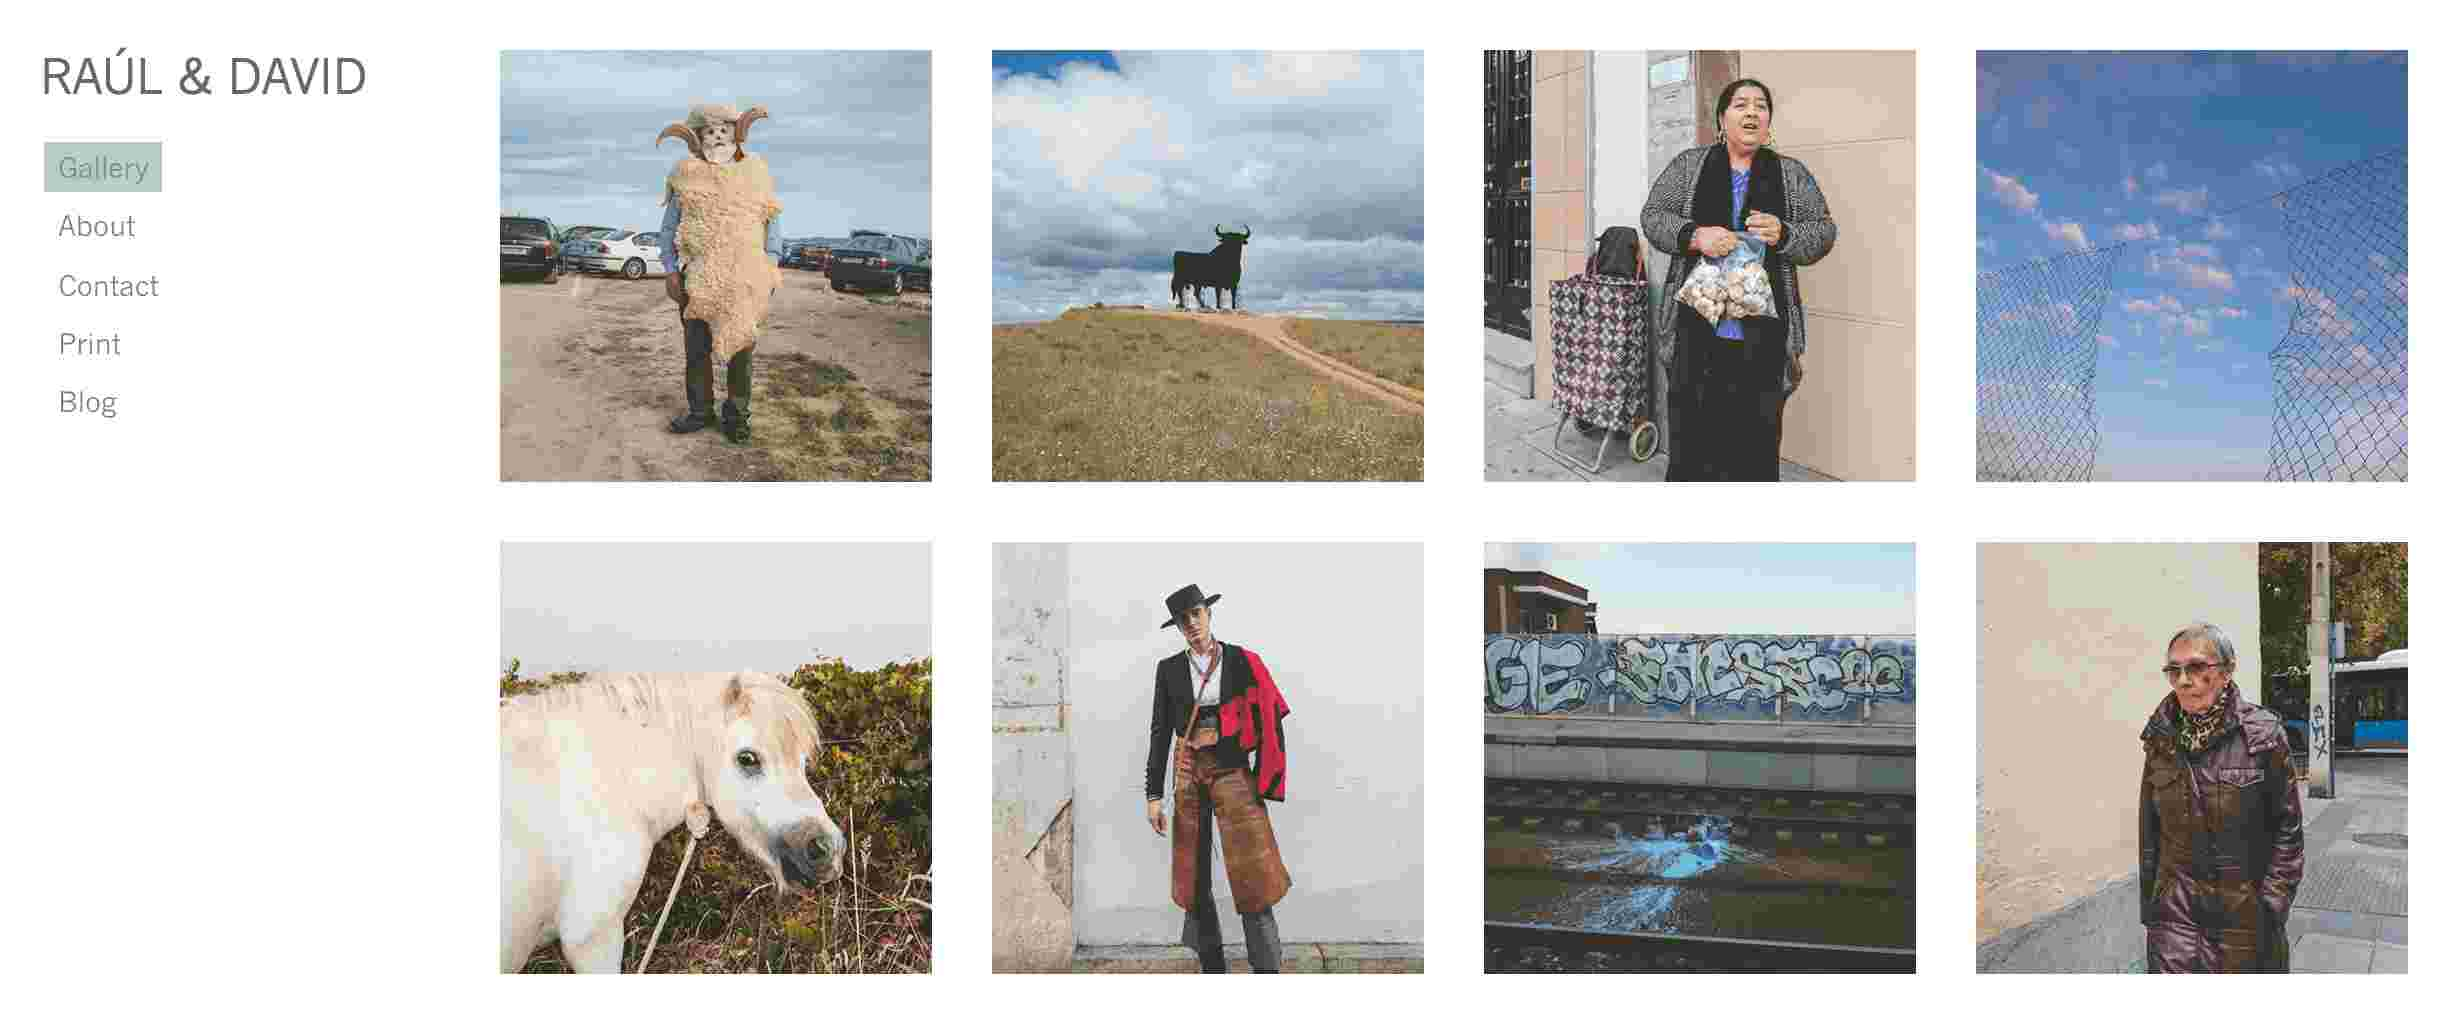Image: (991, 45, 1428, 473), (497, 547, 939, 970), (1483, 539, 1911, 974), (1978, 539, 2405, 974), (500, 49, 933, 476), (1489, 45, 1914, 481), (1977, 45, 2405, 476), (991, 539, 1420, 963)
Side Bar: (0, 0, 450, 992)
